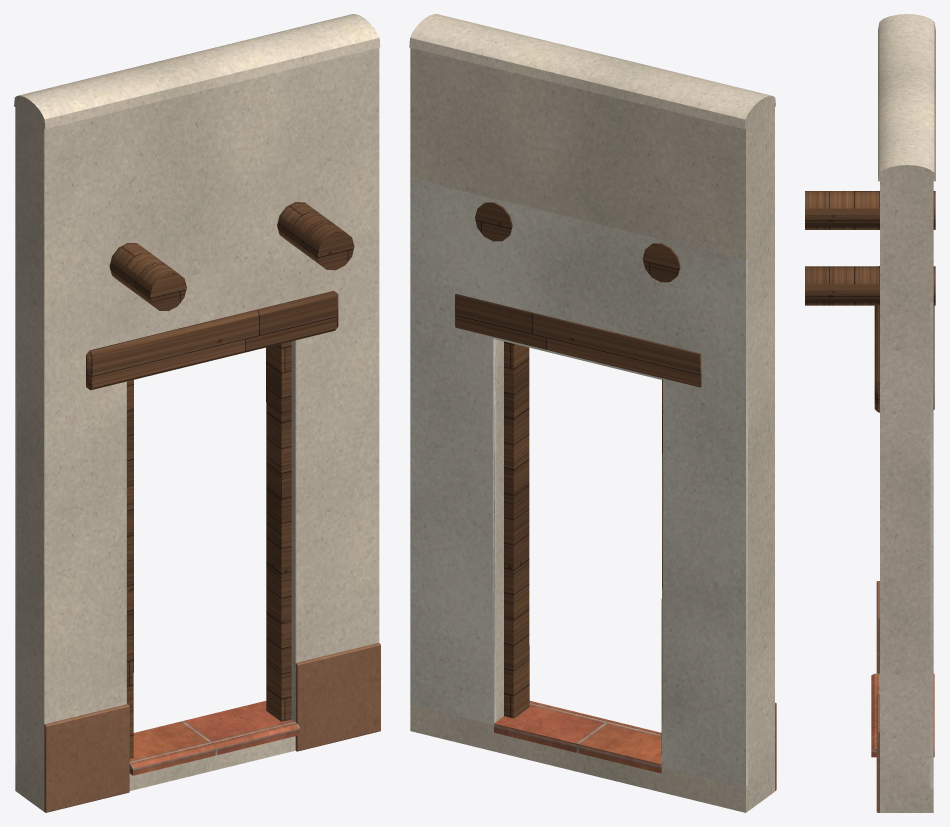
The model's file is c_wall_door.glb.
3 renders of one model, left to right at view 1: azimuth 30°, elevation 25°; view 2: azimuth 150°, elevation 25°; view 3: azimuth 270°, elevation 25°, orthographic. The views are drawn at different scales.
Visible parts, largest first — view 1: c_wall_door_render, c_wall_door_wood, c_wall_door_plinth, c_wall_door_saltillo, c_wall_door_plaster; view 2: c_wall_door_plaster, c_wall_door_render, c_wall_door_wood, c_wall_door_saltillo; view 3: c_wall_door_render, c_wall_door_wood, c_wall_door_plaster, c_wall_door_plinth, c_wall_door_saltillo.
Boxes of the visible parts, box(x1,y1,x2,y2) form: c_wall_door_render: box(14, 14, 380, 811); c_wall_door_wood: box(86, 202, 354, 758); c_wall_door_plinth: box(44, 642, 380, 812); c_wall_door_saltillo: box(129, 701, 299, 775); c_wall_door_plaster: box(15, 239, 16, 765); c_wall_door_plaster: box(410, 178, 747, 786); c_wall_door_render: box(409, 14, 775, 812); c_wall_door_wood: box(455, 202, 701, 754); c_wall_door_saltillo: box(494, 700, 663, 773); c_wall_door_render: box(878, 14, 935, 812); c_wall_door_wood: box(805, 191, 935, 412); c_wall_door_plaster: box(930, 302, 933, 788); c_wall_door_plinth: box(876, 581, 879, 812); c_wall_door_saltillo: box(871, 673, 934, 757).
Bounding box in the file's own units: 2 × 4 × 0.732.
Materials: 5 (5 with a texture image).
